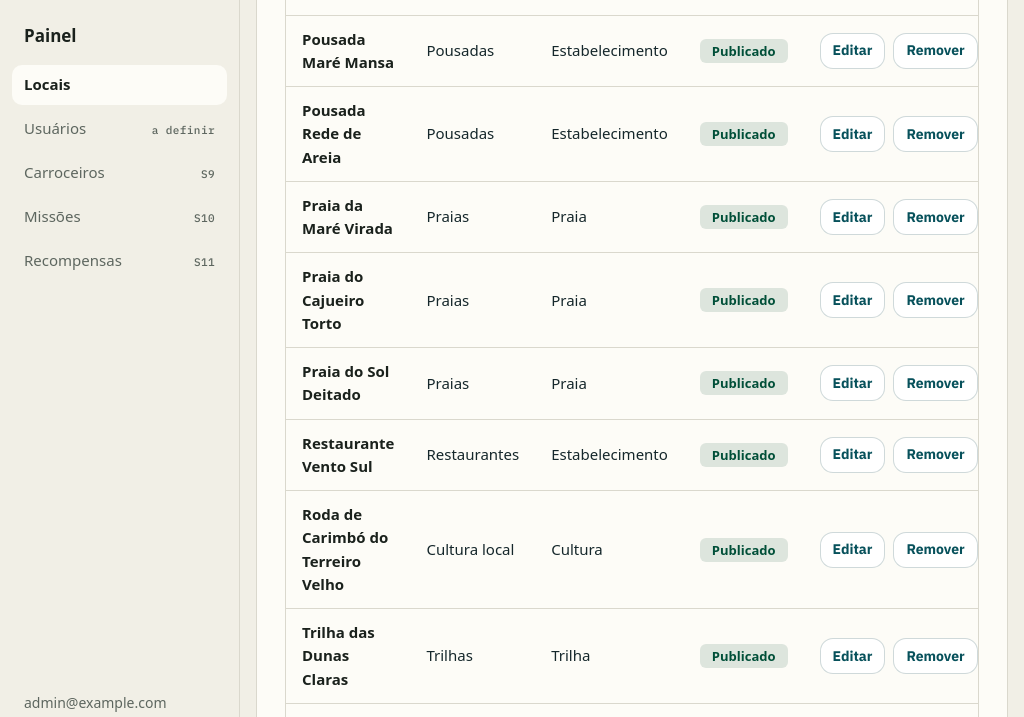
Test: lista de locais › mostra o erro quando a remoção falha
(page scrolled)
Click the button with aria-label "Remover Praia do Sol Deitado". click: [936, 383]
box: [893,365,978,401]
(page scrolled)
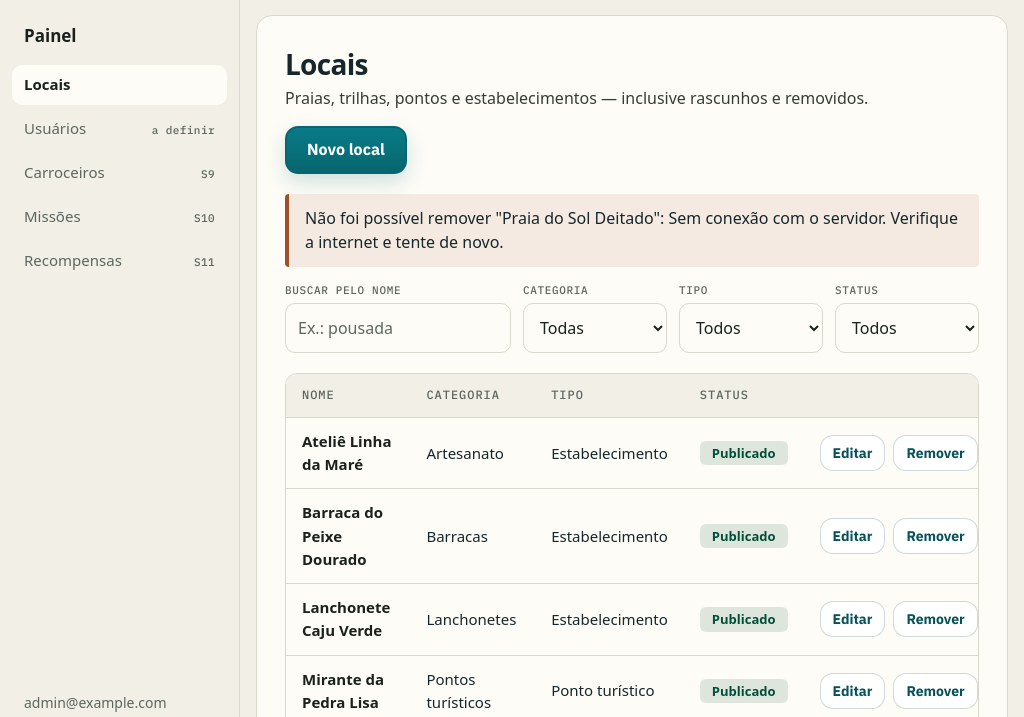
Result: the text "Não foi possível remover \"Praia do Sol Deitado\": Sem conexão com o servidor. Verifique a internet e tente de novo." is shown at [305,207,958,253]
